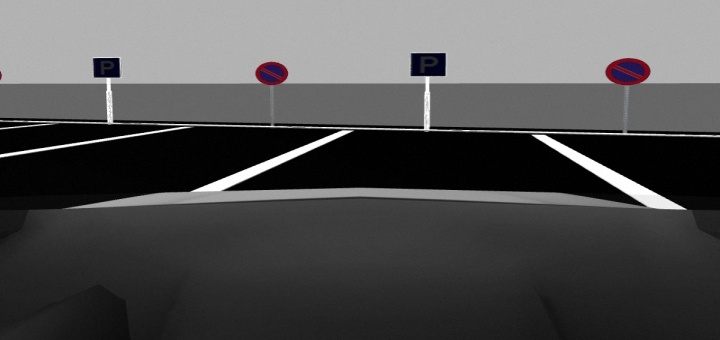park: (407, 50, 449, 77), (90, 57, 124, 80)
park_yapilmaz: (601, 57, 651, 90), (253, 60, 287, 86)
